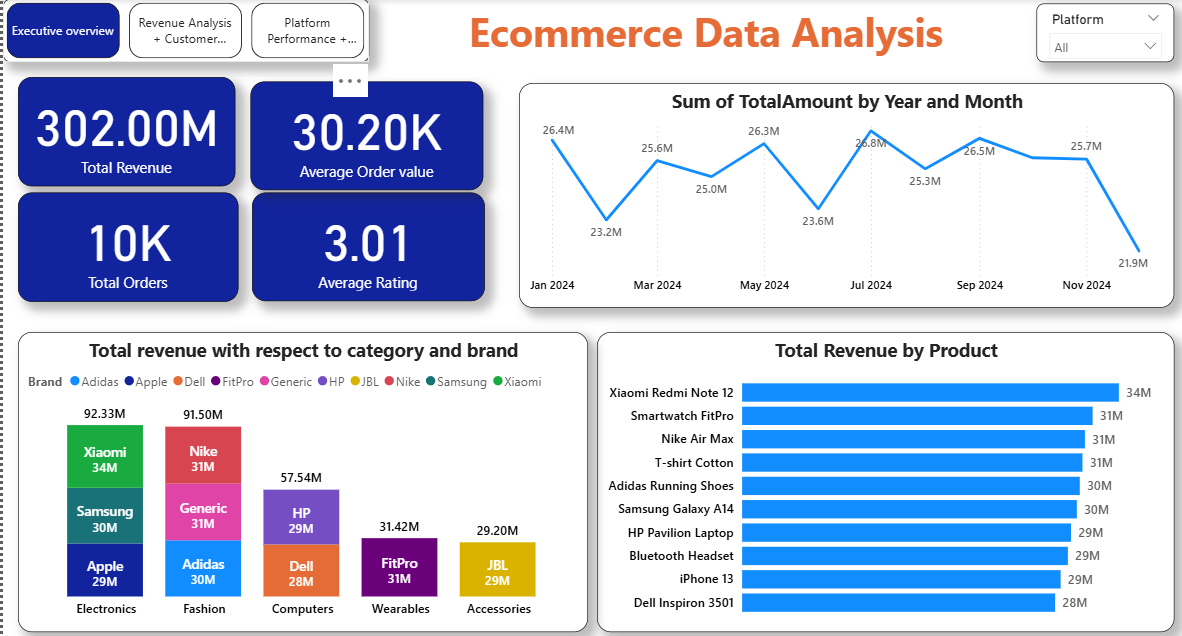

What the dashboard file says about the page in this screenshot:
{"tool":"powerbi","page":{"name":"Executive overview","canvas":[1280,720],"ordinal":0},"visuals":[{"type":"card","fields":{"Values":["EcommerceData.Total Revenue"]},"box":[0,117.2,251.3,117.2],"z":0},{"type":"card","fields":{"Values":["EcommerceData.Total Orders"]},"box":[1.9,241.9,251.3,117.2],"z":1000},{"type":"card","fields":{"Values":["EcommerceData.Average Rating"]},"box":[268.3,241.9,251.3,117.2],"z":2000},{"type":"barChart","fields":{"Category":["EcommerceData.Product"],"Y":["EcommerceData.Total Revenue"]},"box":[640.6,396.9,638.7,323.2],"z":3000},{"type":"columnChart","title":"Total revenue with respect to category and brand","fields":{"Category":["EcommerceData.Category"],"Series":["EcommerceData.Brand"],"Y":["Sum(EcommerceData.TotalAmount)"]},"box":[0,396.9,631.2,323.2],"z":4000},{"type":"lineChart","fields":{"Category":["EcommerceData.OrderDate.Variation.Date Hierarchy.Year","EcommerceData.OrderDate.Variation.Date Hierarchy.Month"],"Y":["Sum(EcommerceData.TotalAmount)"]},"box":[557.5,117.2,721.9,241.9],"z":5000},{"type":"textbox","box":[315.6,0,661.4,90.7],"z":6000},{"type":"card","fields":{"Values":["EcommerceData.Averagr Order value"]},"box":[266.5,120.9,251.3,117.2],"z":7000}]}

Visuals, with their boxes on the page's 1280x720 design canvas (x1, y1, x2, y2). These are canvas units, not pixel positions in the 1182x636 screenshot, which may show the page scaled, cropped or inside an application window:
card - EcommerceData.Total Revenue: [0, 117, 251, 234]
card - EcommerceData.Total Orders: [2, 242, 253, 359]
card - EcommerceData.Average Rating: [268, 242, 520, 359]
barChart - EcommerceData.Product x EcommerceData.Total Revenue: [641, 397, 1279, 720]
"Total revenue with respect to category and brand" columnChart: [0, 397, 631, 720]
lineChart - EcommerceData.OrderDate.Variation.Date Hierarchy.Year x EcommerceData.OrderDate.Variation.Date Hierarchy.Month: [558, 117, 1279, 359]
textbox: [316, 0, 977, 91]
card - EcommerceData.Averagr Order value: [266, 121, 518, 238]
